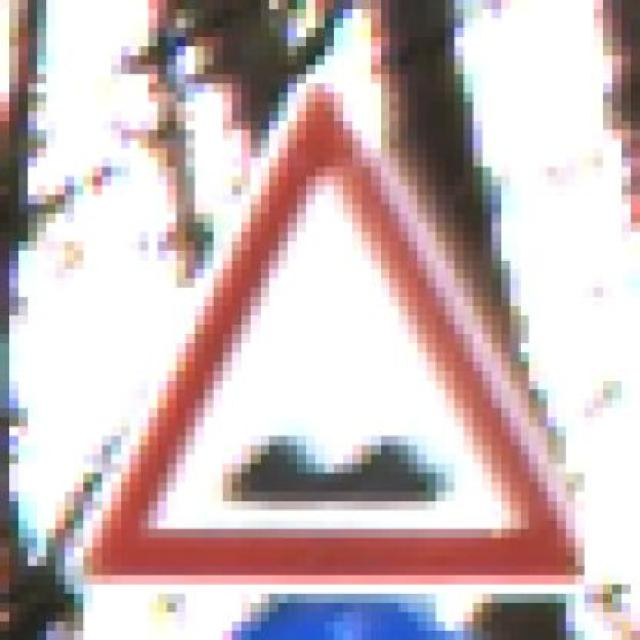Uneven Road: (59, 63, 588, 592)
